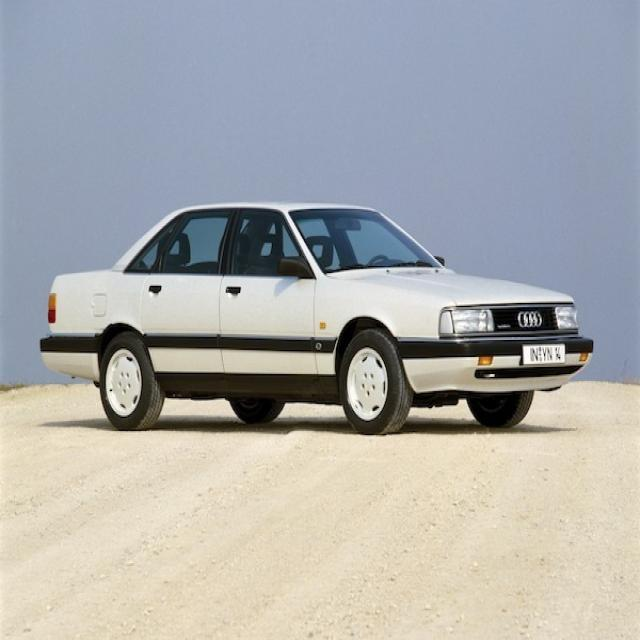car: (38, 202, 594, 437)
